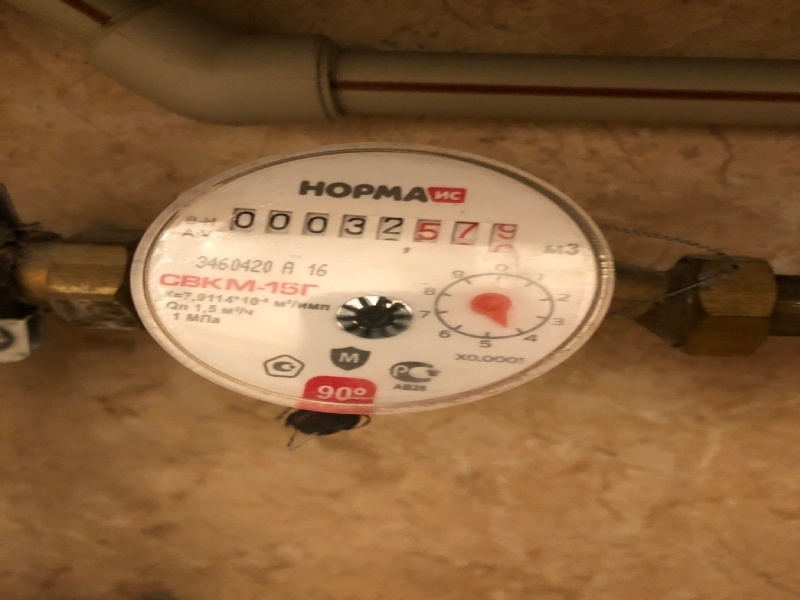meter: (228, 201, 523, 259)
